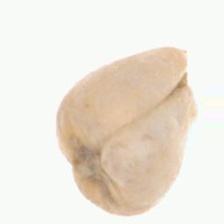L3: (169, 47, 196, 118)
L4: (56, 47, 195, 216)
